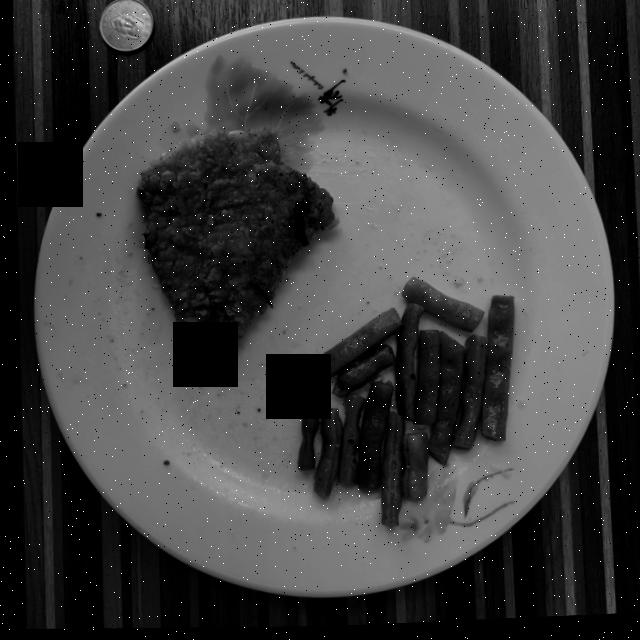coin: (97, 0, 151, 53)
fried chicken cutlet: (134, 131, 334, 359)
